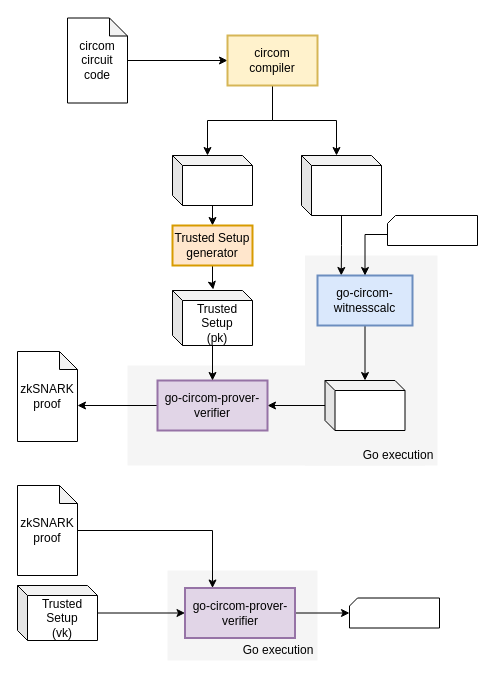
This 495x677 diagram has some shape labels left out. The box of each missing label's shape, as (x1, y1, x2, y2) in pixels:
circuit compiled: (172, 154, 252, 206)
Ok, verified: (348, 597, 440, 628)
Private & Public Inputs: (386, 214, 478, 246)
witness: (324, 380, 405, 430)
witness WASM calculation: (300, 154, 382, 216)
